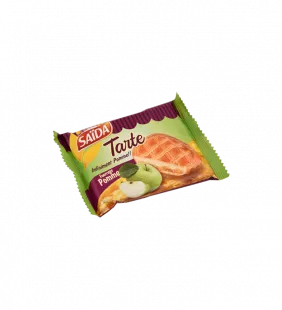SAIDA: (44, 84, 236, 226)
